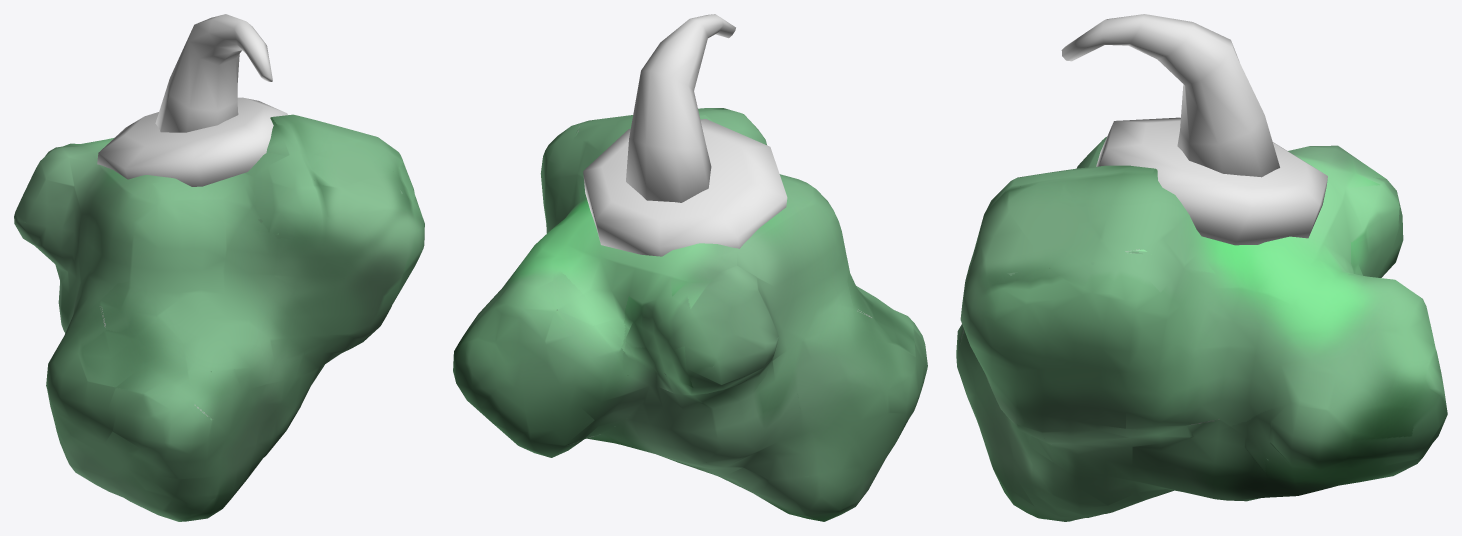
Rendered from SlimeBomb.fbx.
3 views of the same model, side by side, from view 1: azimuth 30°, elevation 25°; view 2: azimuth 150°, elevation 25°; view 3: azimuth 270°, elevation 25° (orthographic). The views are drawn at different scales.
Visible parts, largest first — view 1: Mball.005, Cylinder.001; view 2: Mball.005, Cylinder.001; view 3: Mball.005, Cylinder.001.
Part boxes in pixels (x1,y1,x2,y2): Mball.005: (14, 114, 424, 521); Cylinder.001: (97, 14, 287, 186); Mball.005: (453, 108, 927, 521); Cylinder.001: (583, 14, 787, 256); Mball.005: (956, 137, 1447, 521); Cylinder.001: (1061, 14, 1327, 245).
Size of the model in its own units: 709 by 875 by 705.
